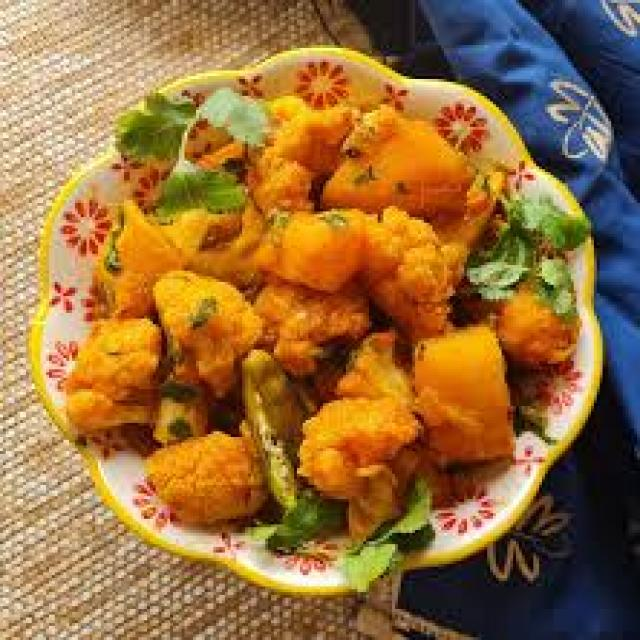Aloo Gobi: (78, 205, 430, 526)
